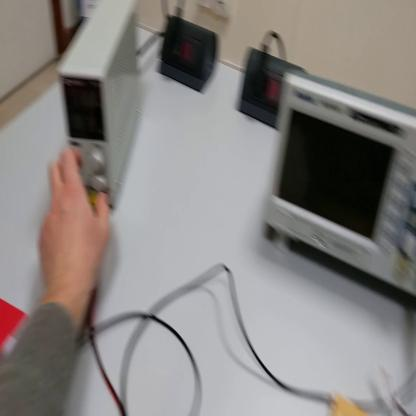hand: (37, 146, 110, 305)
oscilloscope: (262, 72, 416, 301)
power supply: (65, 1, 149, 213)
register: (2, 298, 31, 365)
socket: (237, 48, 307, 135), (162, 17, 220, 98)
working area: (330, 391, 372, 415)
